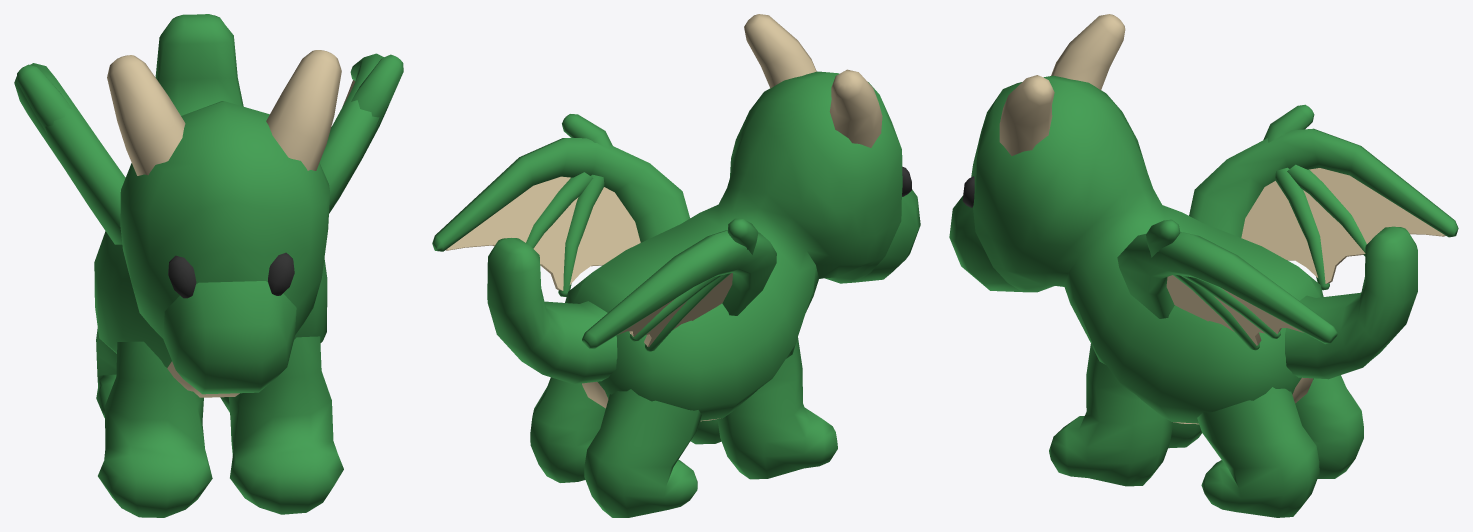
Rendered from Dragon.fbx.
3 renders of one model, left to right at view 1: azimuth 30°, elevation 25°; view 2: azimuth 150°, elevation 25°; view 3: azimuth 270°, elevation 25°, orthographic. The views are drawn at different scales.
Parts seen in each view (by area): view 1: Dragon; view 2: Dragon; view 3: Dragon.
Boxes of the visible parts, bbox=[...] form: Dragon: bbox=[14, 14, 403, 517]; Dragon: bbox=[432, 14, 920, 517]; Dragon: bbox=[949, 14, 1458, 517].
Size of the model in its own units: 4.61 by 5.28 by 6.13.
